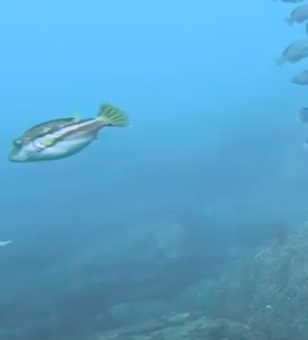hugu: (7, 105, 126, 162)
